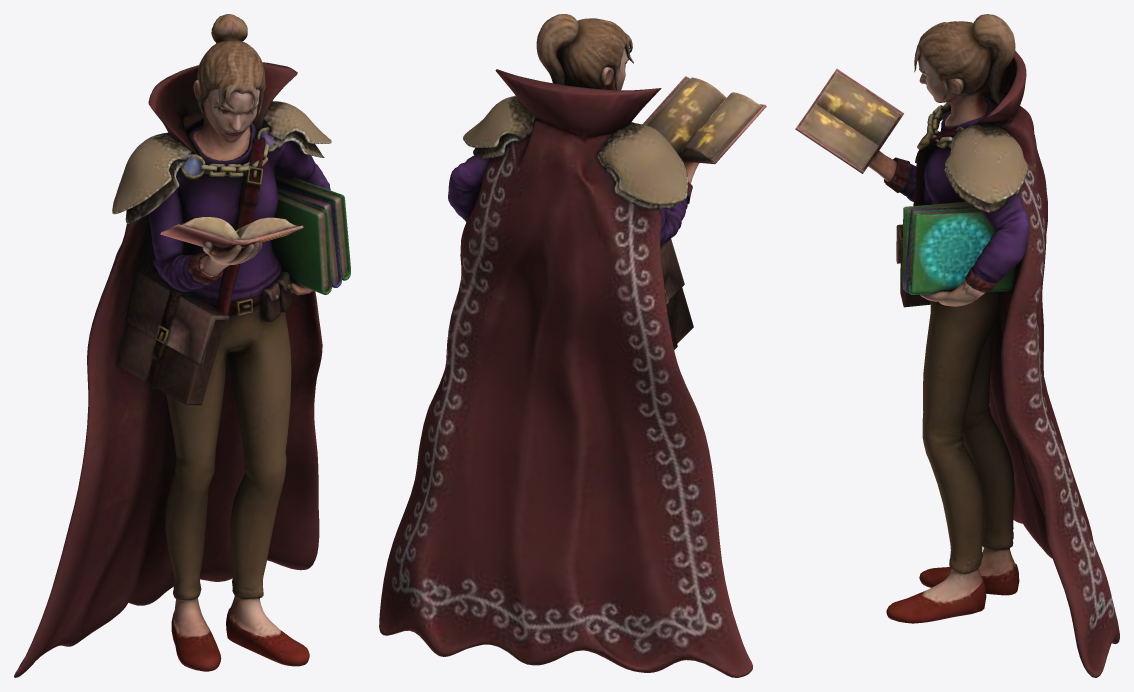
File: MZ4250 - Human Female Transmutation Wizard_1.glb
3 renders of one model, left to right at view 1: azimuth 30°, elevation 25°; view 2: azimuth 150°, elevation 25°; view 3: azimuth 270°, elevation 25°, orthographic. The views are drawn at different scales.
Parts seen in each view (by area): view 1: Body.002; view 2: Body.002; view 3: Body.002.
Boxes of the visible parts, bbox=[...] form: Body.002: bbox=[14, 14, 350, 677]; Body.002: bbox=[379, 14, 766, 677]; Body.002: bbox=[795, 14, 1119, 677].
Size of the model in its own units: 0.5512 by 0.9634 by 0.4717.
1 material, 1 textured.
